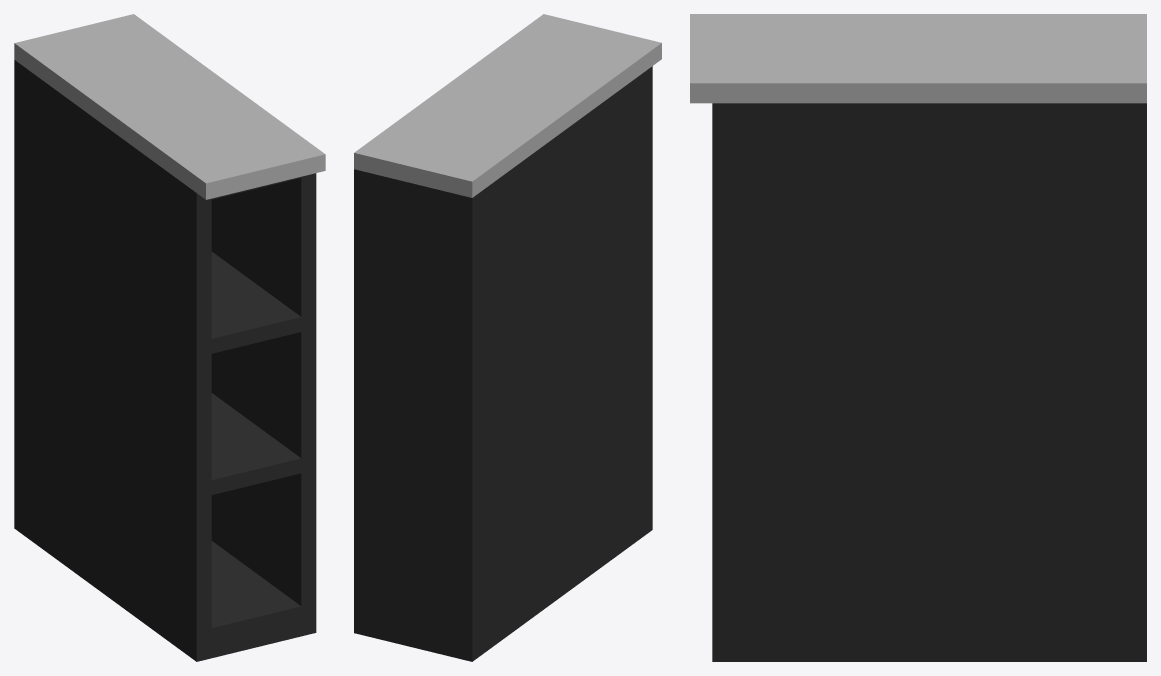
The model's file is KitchenCounter_SideShelf_Bottom_01.fbx.
3 views of the same model, side by side, from view 1: azimuth 30°, elevation 25°; view 2: azimuth 150°, elevation 25°; view 3: azimuth 270°, elevation 25° (orthographic). The views are drawn at different scales.
Visible parts, largest first — view 1: KitchenCounter_SideShelf_Bottom_01; view 2: KitchenCounter_SideShelf_Bottom_01; view 3: KitchenCounter_SideShelf_Bottom_01.
Boxes of the visible parts, x1,y1,x2,y2 form: KitchenCounter_SideShelf_Bottom_01: [14, 14, 325, 661]; KitchenCounter_SideShelf_Bottom_01: [354, 14, 661, 661]; KitchenCounter_SideShelf_Bottom_01: [690, 14, 1146, 661].
Size of the model in its own units: 0.25 by 0.9704 by 0.6946.
